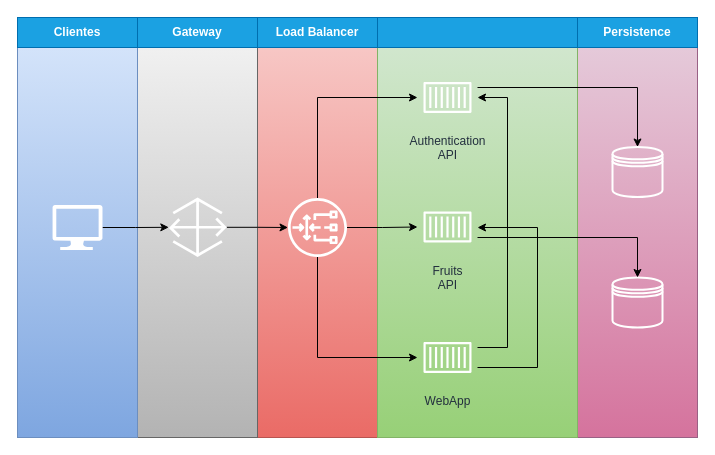
This 715x455 diagram has some shape labels left out. The box of each missing label's shape, as (x1, y1, x2, y2) in pixels:
Cluster: (376, 16, 578, 48)
FruitsDB: (611, 276, 663, 328)
UserDB: (611, 146, 663, 198)
